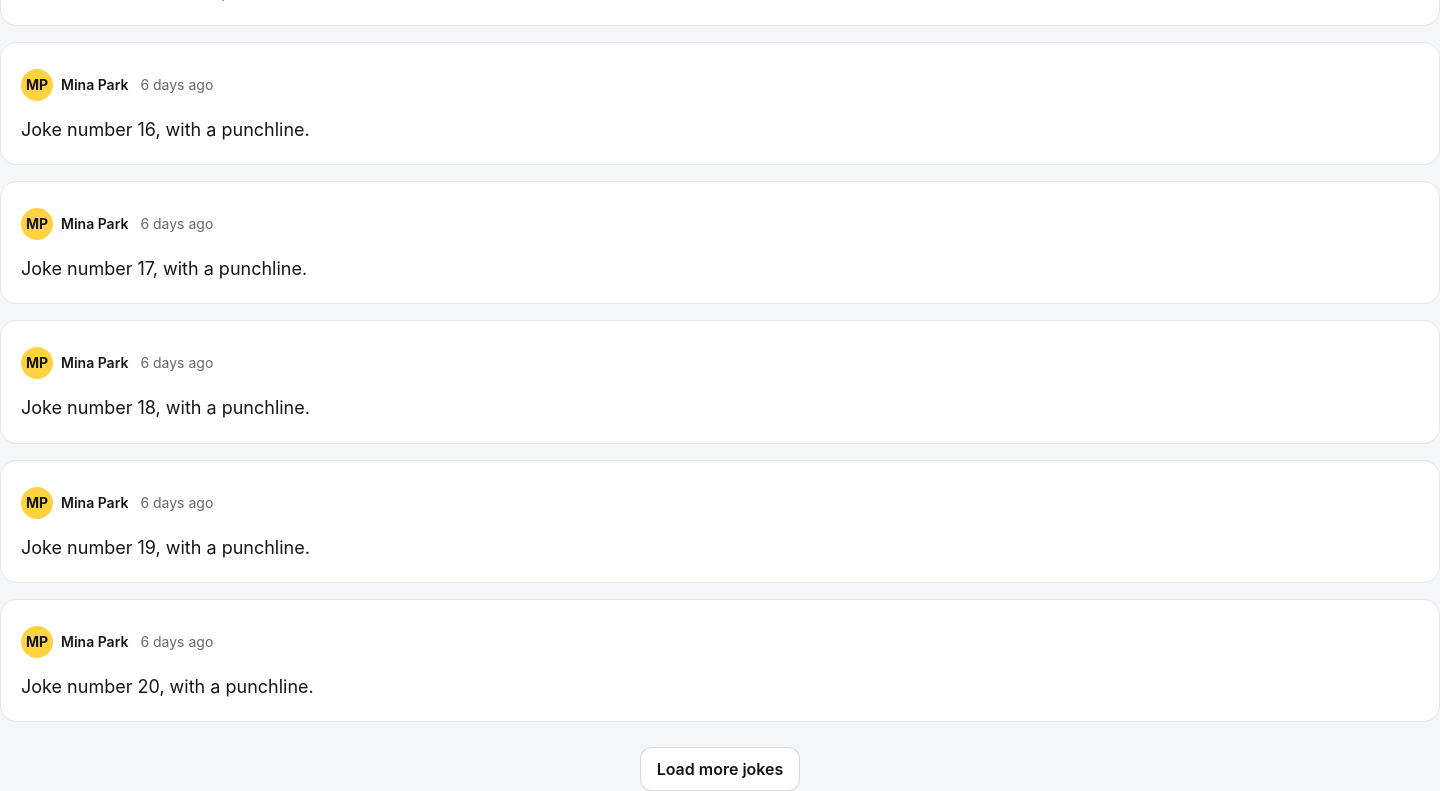
Test case: LazyJokeList › shows the end state when there are no more jokes
This screenshot has width=1440, height=791.
(page scrolled)
Click the button "Load more jokes" at point(720, 769), box left=640, top=747, right=800, bottom=790
(page scrolled)
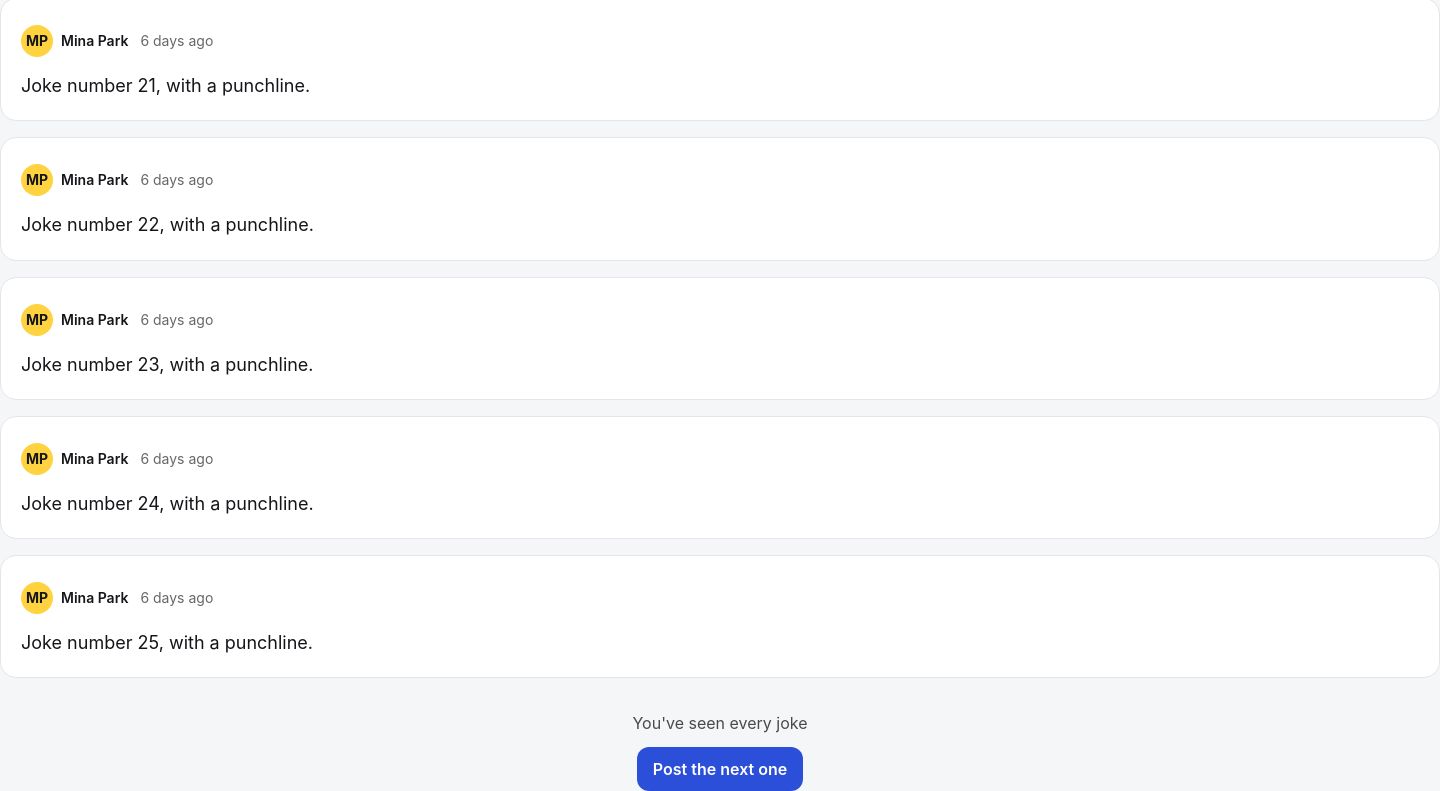
Check: the text "You've seen every joke" is shown, box left=632, top=711, right=808, bottom=735
Check: the button "Load more jokes" is gone
